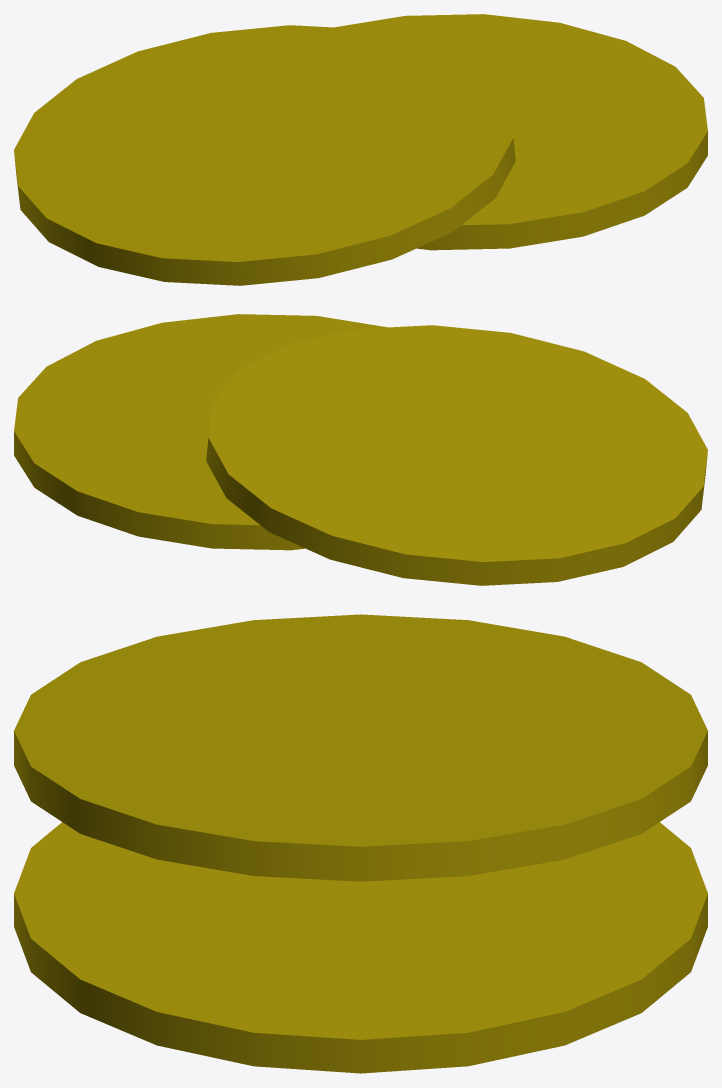
Rendered from coins.fbx.
3 views of the same model, one above another, from view 1: azimuth 30°, elevation 25°; view 2: azimuth 150°, elevation 25°; view 3: azimuth 270°, elevation 25° (orthographic). The views are drawn at different scales.
Visible parts, largest first — view 1: pCylinder6, pCylinder5; view 2: pCylinder6, pCylinder5; view 3: pCylinder6, pCylinder5.
Part boxes in pixels (bbox=[...]): pCylinder6: bbox=[14, 25, 515, 285]; pCylinder5: bbox=[335, 14, 707, 250]; pCylinder6: bbox=[206, 325, 707, 585]; pCylinder5: bbox=[14, 314, 386, 550]; pCylinder6: bbox=[14, 614, 707, 881]; pCylinder5: bbox=[14, 822, 707, 1073].
Bounding box in the file's own units: 18.94 × 2 × 13.14.
